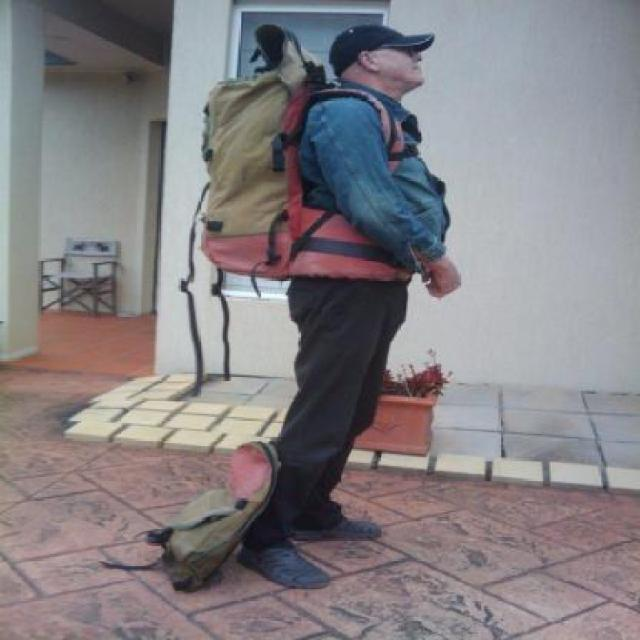backpack: (195, 20, 314, 285), (134, 434, 281, 603)
